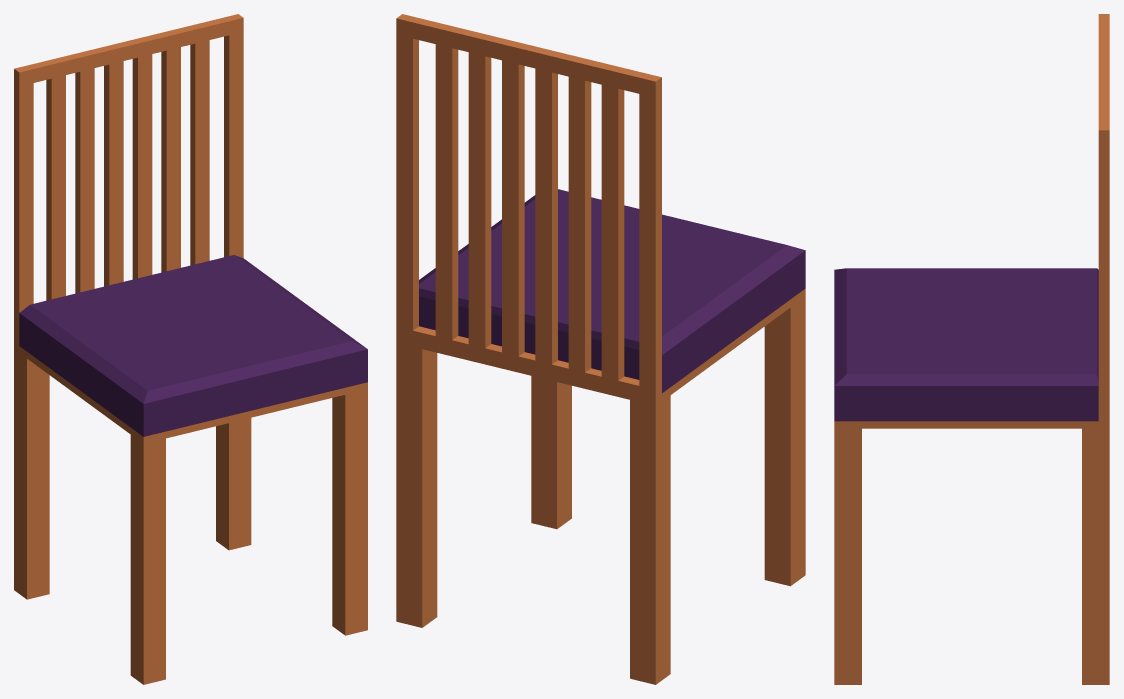
Rendered from chaise2.fbx.
3 views of the same model, side by side, from view 1: azimuth 30°, elevation 25°; view 2: azimuth 150°, elevation 25°; view 3: azimuth 270°, elevation 25° (orthographic). The views are drawn at different scales.
Parts seen in each view (by area): view 1: Cube.002; view 2: Cube.002; view 3: Cube.002.
Part boxes in pixels (bbox=[...]): Cube.002: bbox=[14, 14, 367, 684]; Cube.002: bbox=[396, 14, 805, 684]; Cube.002: bbox=[834, 14, 1109, 684].
Size of the model in its own units: 180 by 400 by 180.
